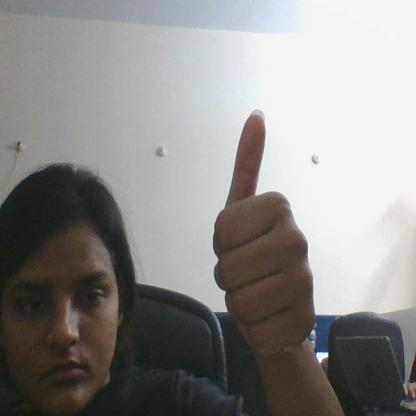thumbs-up: (214, 108, 325, 361)
